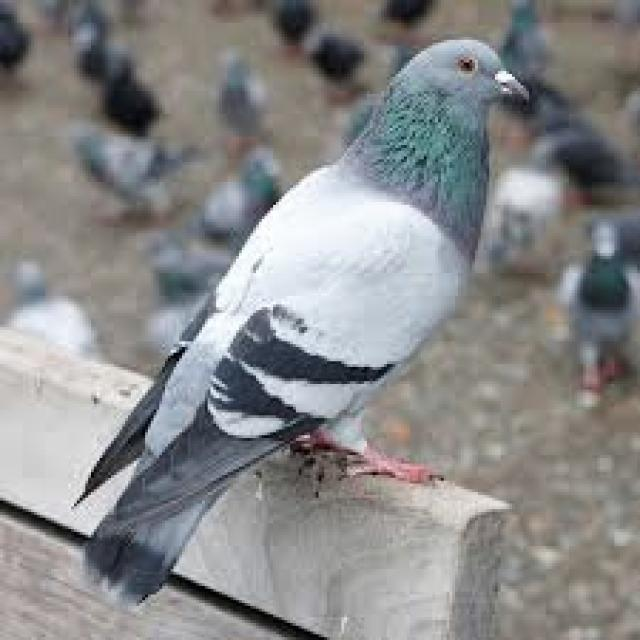pigeon: (77, 40, 526, 597)
